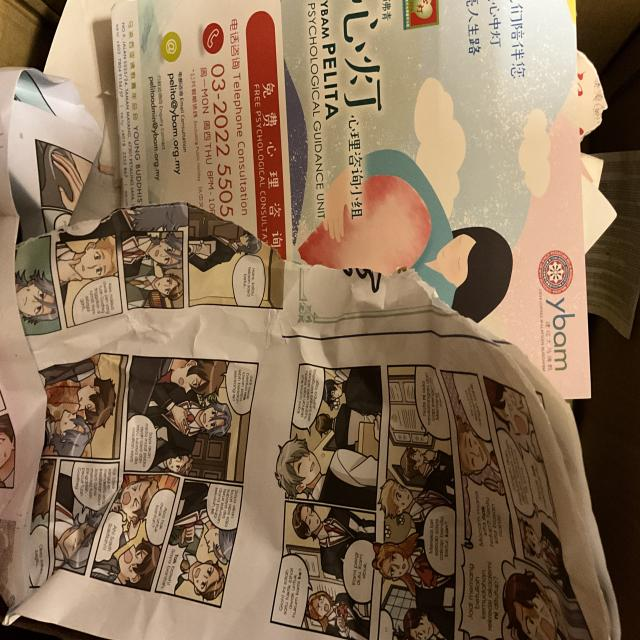paper: (9, 205, 604, 640), (0, 0, 593, 394)
